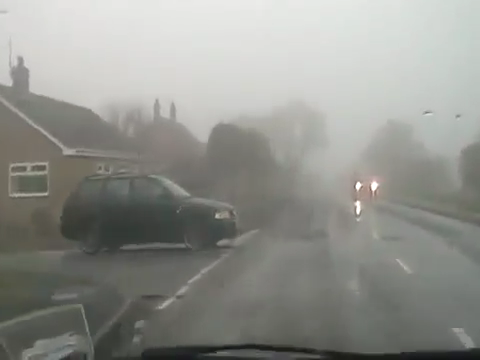car: (59, 173, 239, 255), (351, 174, 383, 207)
